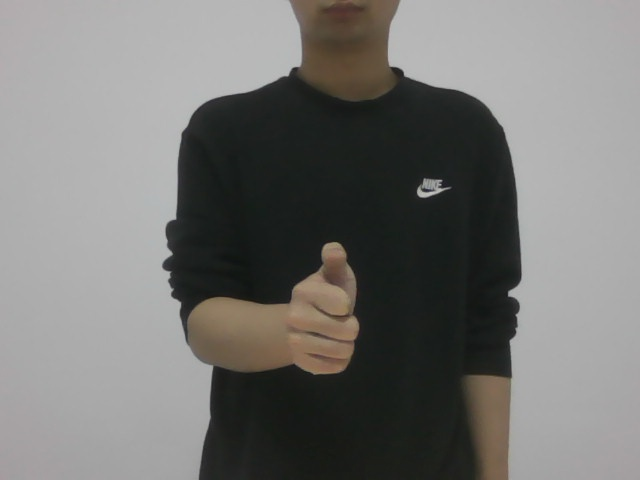thank you: (285, 237, 367, 378)
